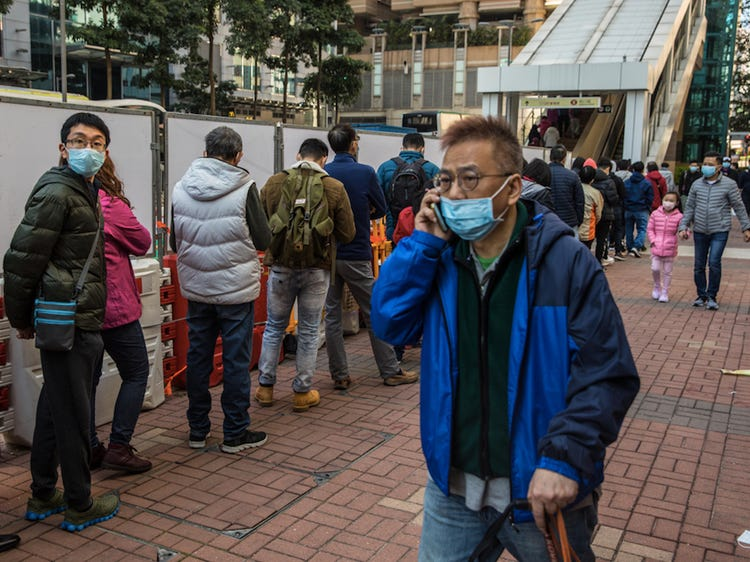with_incorrect_mask: (442, 143, 500, 238)
with_mask: (65, 120, 104, 172), (699, 156, 720, 178), (663, 194, 677, 211)
